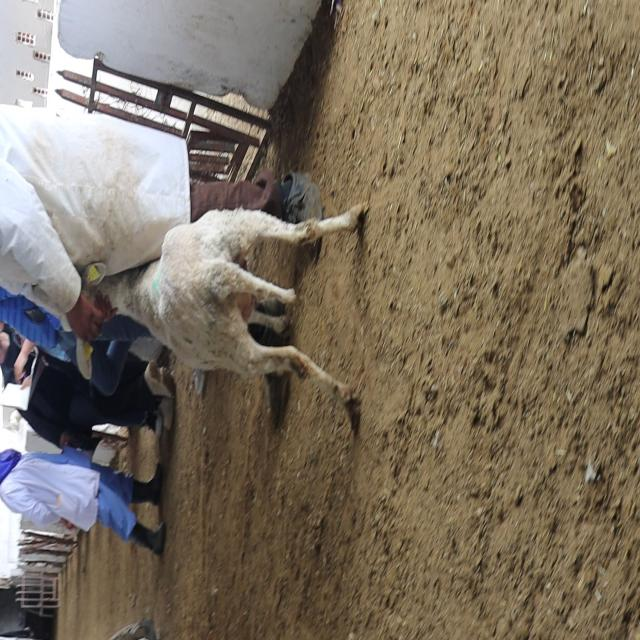Score_1: (95, 205, 365, 414)
